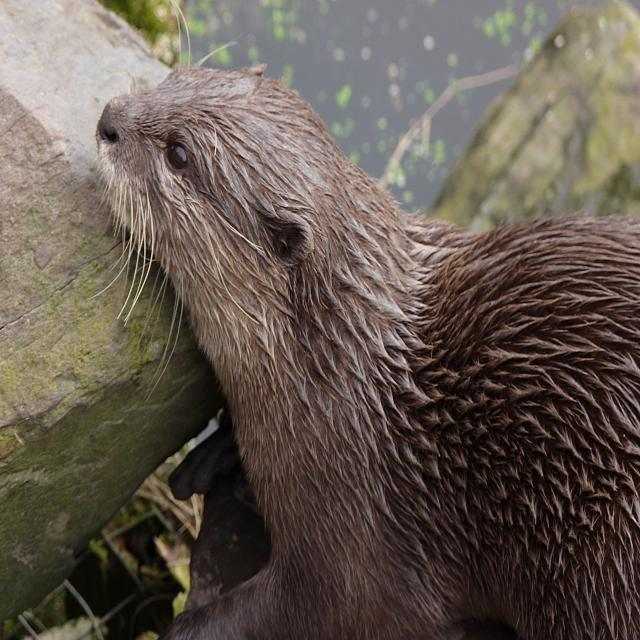otter: (100, 63, 640, 640)
